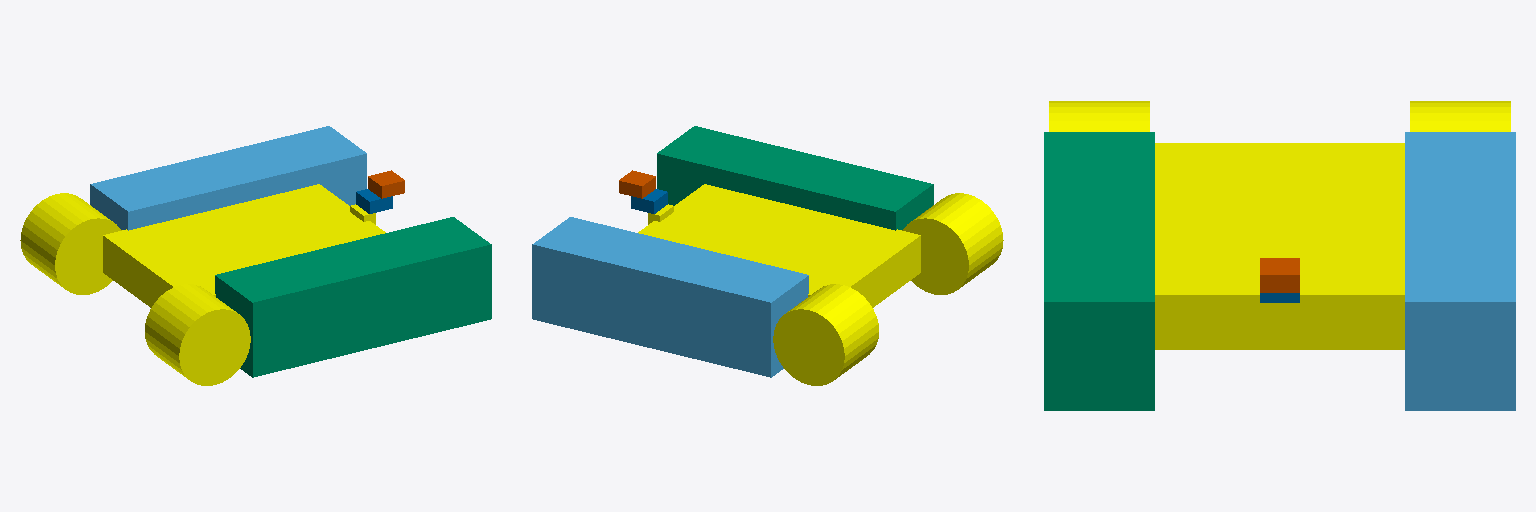
robot.urdf — myfirst:
<?xml version="1.0"?>
<robot name="myfirst">
    <link name="base_link">
        <visual>
            <geometry>
                <box size = "0.18 0.13 0.03" />
            </geometry>
            <material name="yellow">
                <color rgba="1 1 0 0.5"/>
            </material>
        </visual>
    </link>

  <link name="Left_track_link">
    <visual>
      <geometry>
         <box size = "0.20 0.055 0.06" />
      </geometry>
      <material name="blue"/>
    </visual>
  </link>

  <joint name="Left_track" type="revolute">
    <limit effort = "10" lower = "-0.22" upper = "1.15" velocity = "10" />
    <axis xyz="-1 0 0"/>
    <parent link="base_link"/>
    <child link="Left_track_link"/>
    <origin rpy="0 0 0" xyz="0.03 0.09 0"/>
  </joint>

  <link name="Right_track_link">
    <visual>
      <geometry>
         <box size = "0.20 0.055 0.06" />
      </geometry>
      <material name="blue"/>
    </visual>
  </link>


  <joint name="Right_track" type="revolute">
    <limit effort = "10" lower = "-0.22" upper = "1.15" velocity = "10" />
    <axis xyz="1 0 0"/>
    <parent link="base_link"/>
    <child link="Right_track_link"/>
    <origin rpy="0 0 0" xyz="0.03 -0.09 0"/>
  </joint>

  <link name="base_video_link">
    <visual>
      <geometry>
         <box size = "0.01 0.02 0.01" />
      </geometry>
            <material name="yellow">
                <color rgba="1 1 0 0"/>
            </material>
    </visual>
  </link>

  <joint name="base_pan_tilt" type="fixed">
    <axis xyz="1 0 0"/>
    <parent link="base_link"/>
    <child link="base_video_link"/>
    <origin rpy="0 0 0" xyz="0.09 0 0.015"/>
  </joint>

  <link name="Pan_link">
    <visual>
      <geometry>
         <box size = "0.02 0.02 0.01" />
      </geometry>
      <material name="blue"/>
    </visual>
  </link>

  <joint name="Pan" type="revolute">
    <limit effort = "10" lower = "-1.57" upper = "1.57" velocity = "10" />
    <axis xyz="0 0 -1"/>
    <parent link="base_video_link"/>
    <child link="Pan_link"/>
    <origin rpy="0 0 0" xyz="0.01 0 0.01"/>
  </joint>

  <link name="Tilt_link">
    <visual>
      <geometry>
         <box size = "0.02 0.02 0.01" />
      </geometry>
      <material name="blue"/>
    </visual>
  </link>

  <joint name="Tilt" type="revolute">
    <limit effort = "10" lower = "-1.57" upper = "1.57" velocity = "10" />
    <axis xyz="0 -1 0"/>
    <parent link="Pan_link"/>
    <child link="Tilt_link"/>
    <origin rpy="0 0 0" xyz="0.01 0 0.01"/>
  </joint>

  <link name="Left_wheel">
    <visual>
      <geometry>
        <cylinder length=".05" radius="0.03"/>
      </geometry>
            <material name="yellow_full">
                <color rgba="1 1 0 1"/>
            </material>
    </visual>
  </link>

  <joint name="Left" type="continuous">
    <axis xyz="0 0 1"/>
    <parent link="Left_track_link"/>
    <child link="Left_wheel"/>
    <origin rpy="1.57075 0 0" xyz="-0.13 0.0 0"/>
    <limit effort="100" velocity="100"/>
    <joint_properties damping="0.0" friction="0.0"/>
  </joint>
  
  <link name="Right_wheel">
    <visual>
      <geometry>
        <cylinder length=".05" radius="0.03"/>
      </geometry>
            <material name="yellow_full">
                <color rgba="1 1 0 1"/>
            </material>
    </visual>
  </link>

  <joint name="Right" type="continuous">
    <axis xyz="0 0 1"/>
    <parent link="Right_track_link"/>
    <child link="Right_wheel"/>
    <origin rpy="1.57075 0 0" xyz="-0.13 0.0 0"/>
    <limit effort="100" velocity="100"/>
    <joint_properties damping="0.0" friction="0.0"/>
  </joint>


</robot>

--- What the picture shows (computed from the rendered views, not written in the file) ---
3 views of the same robot in one strip: view 1: azimuth 30°, elevation 25°; view 2: azimuth 150°, elevation 25°; view 3: azimuth 270°, elevation 25° (orthographic).
Model myfirst with 8 links and 7 joints (4 revolute, 2 continuous, 1 fixed), rooted at base_link, posed all joints at 0.
Links seen in each view (by area): view 1: Right_track_link, base_link, Left_track_link, Right_wheel, Left_wheel, Tilt_link, Pan_link; view 2: Left_track_link, base_link, Right_track_link, Left_wheel, Right_wheel, Tilt_link, Pan_link; view 3: base_link, Left_track_link, Right_track_link, Left_wheel, Right_wheel, Tilt_link.
Link boxes in pixels (<box>): Right_track_link: <box>215,217,491,377</box>; base_link: <box>103,184,385,307</box>; Left_track_link: <box>90,126,366,230</box>; Right_wheel: <box>145,284,250,385</box>; Left_wheel: <box>20,193,121,294</box>; Tilt_link: <box>368,170,404,198</box>; Pan_link: <box>356,189,392,213</box>; Left_track_link: <box>532,217,808,377</box>; base_link: <box>638,184,920,307</box>; Right_track_link: <box>657,126,933,230</box>; Left_wheel: <box>773,284,878,385</box>; Right_wheel: <box>902,193,1003,294</box>; Tilt_link: <box>619,170,655,198</box>; Pan_link: <box>631,189,667,213</box>; base_link: <box>1155,143,1404,349</box>; Left_track_link: <box>1405,132,1515,410</box>; Right_track_link: <box>1044,132,1154,410</box>; Left_wheel: <box>1410,101,1510,131</box>; Right_wheel: <box>1049,101,1149,131</box>; Tilt_link: <box>1260,258,1299,292</box>.
Bounding box of the posed robot: 0.26 × 0.235 × 0.07 m (x, y, z).
Geometry: primitives only (box / cylinder / sphere), no mesh files.
